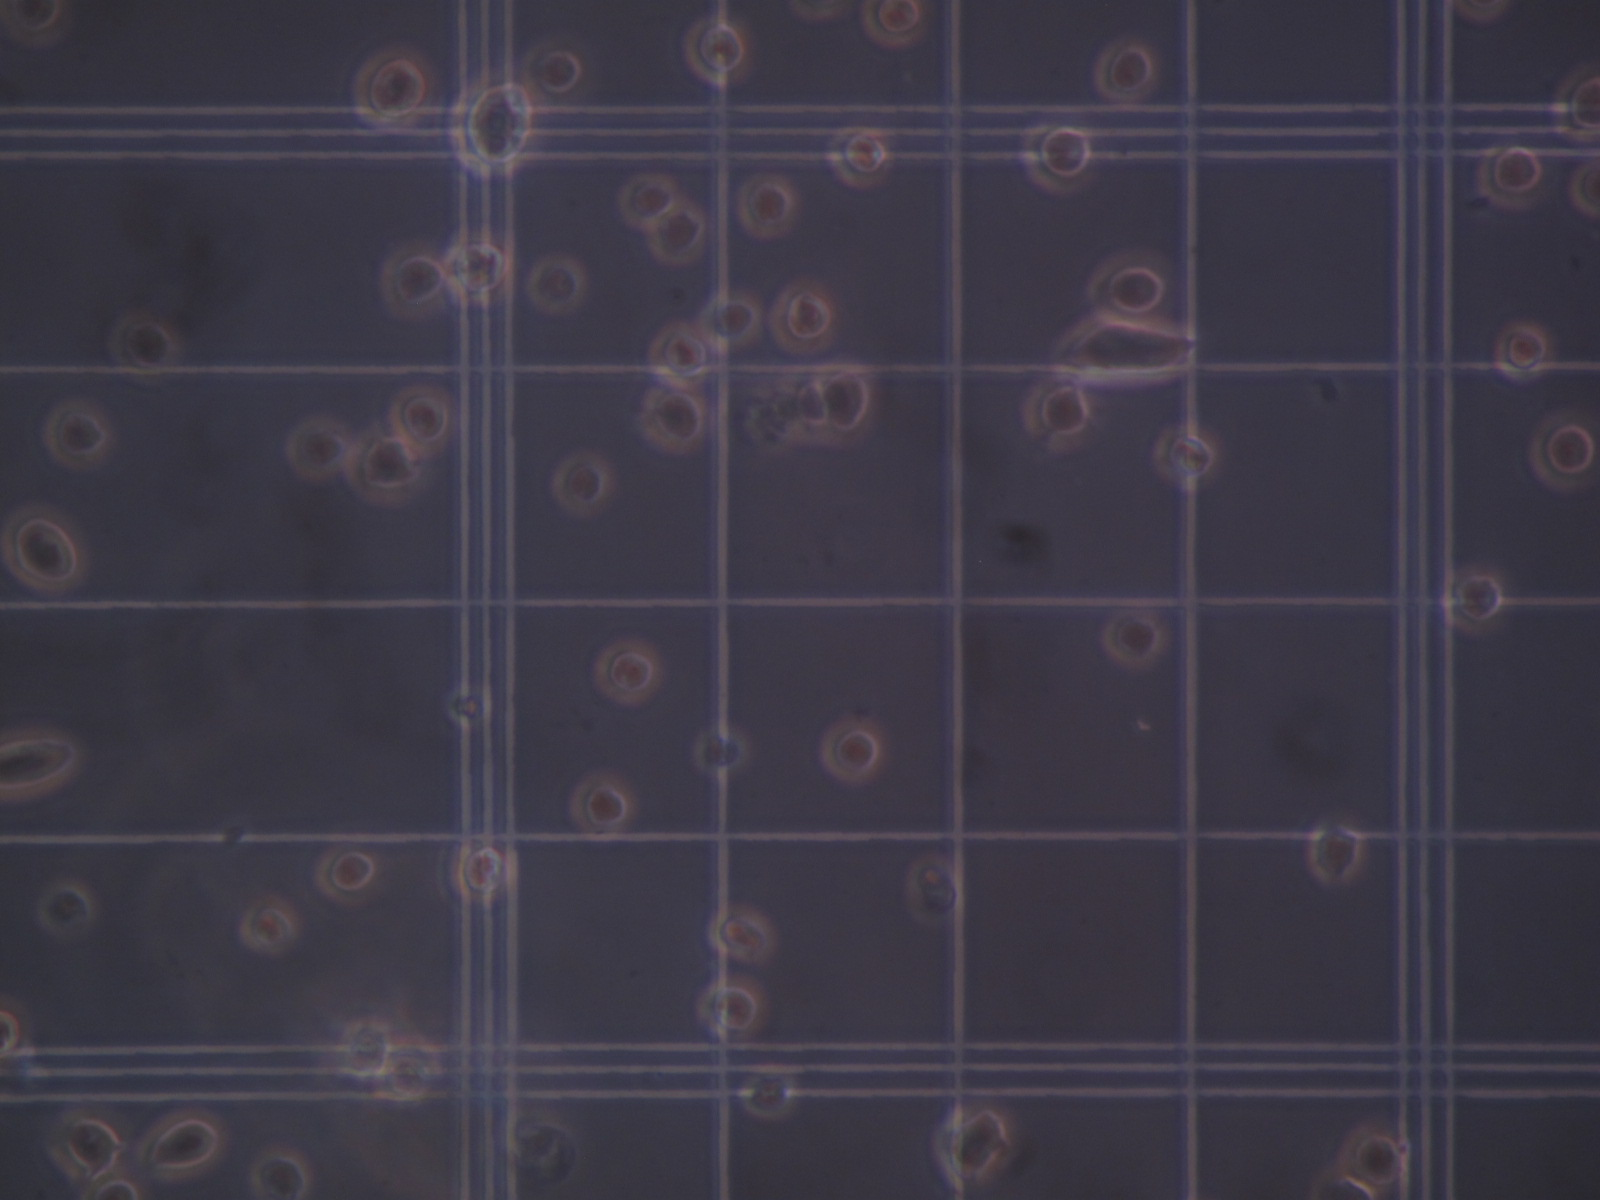hemo: (1054, 314, 1198, 384), (1, 499, 91, 592), (454, 79, 534, 174), (935, 1102, 1015, 1194), (1089, 250, 1178, 330), (139, 1105, 231, 1182), (47, 1108, 131, 1187), (350, 47, 430, 129), (1, 727, 82, 804), (346, 431, 426, 508), (1477, 139, 1556, 211), (378, 245, 449, 325), (1527, 408, 1592, 493), (1020, 118, 1092, 193), (1090, 33, 1162, 107), (1026, 373, 1092, 453), (769, 280, 840, 353), (636, 387, 711, 458), (445, 232, 515, 306), (566, 769, 636, 842), (593, 637, 665, 707), (819, 711, 886, 787), (821, 354, 874, 449), (45, 397, 113, 470), (110, 313, 178, 384), (389, 384, 456, 458), (695, 976, 769, 1041), (1440, 561, 1503, 637), (1151, 424, 1217, 495), (551, 449, 616, 521), (683, 19, 748, 88), (286, 417, 354, 483), (441, 841, 509, 906), (377, 1034, 440, 1104), (905, 853, 965, 926), (709, 904, 779, 967), (1101, 609, 1170, 671), (826, 126, 891, 192), (648, 321, 709, 388), (237, 892, 304, 954), (649, 198, 709, 266), (312, 845, 380, 905), (1340, 1126, 1410, 1184), (734, 174, 797, 237), (617, 171, 680, 234), (519, 42, 585, 102), (1490, 320, 1553, 382), (1306, 819, 1363, 887), (525, 255, 587, 315), (695, 294, 762, 348), (37, 884, 93, 943), (336, 1017, 393, 1076), (249, 1147, 314, 1199), (1552, 71, 1597, 142), (860, 1, 925, 49), (737, 1069, 794, 1121), (799, 371, 829, 449), (695, 727, 746, 773), (1, 993, 31, 1063)
